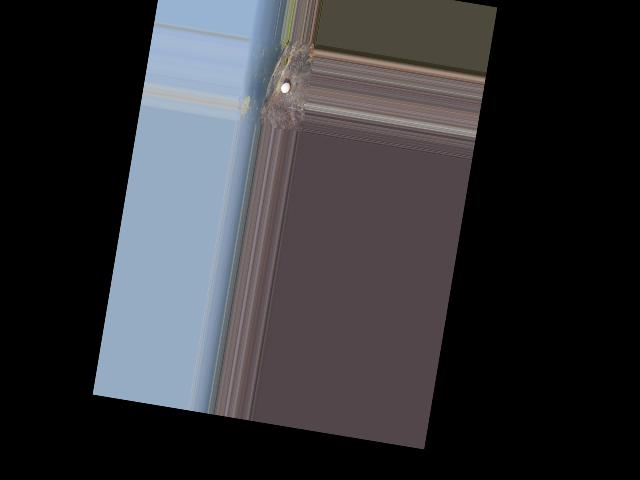egg: (280, 82, 290, 94)
